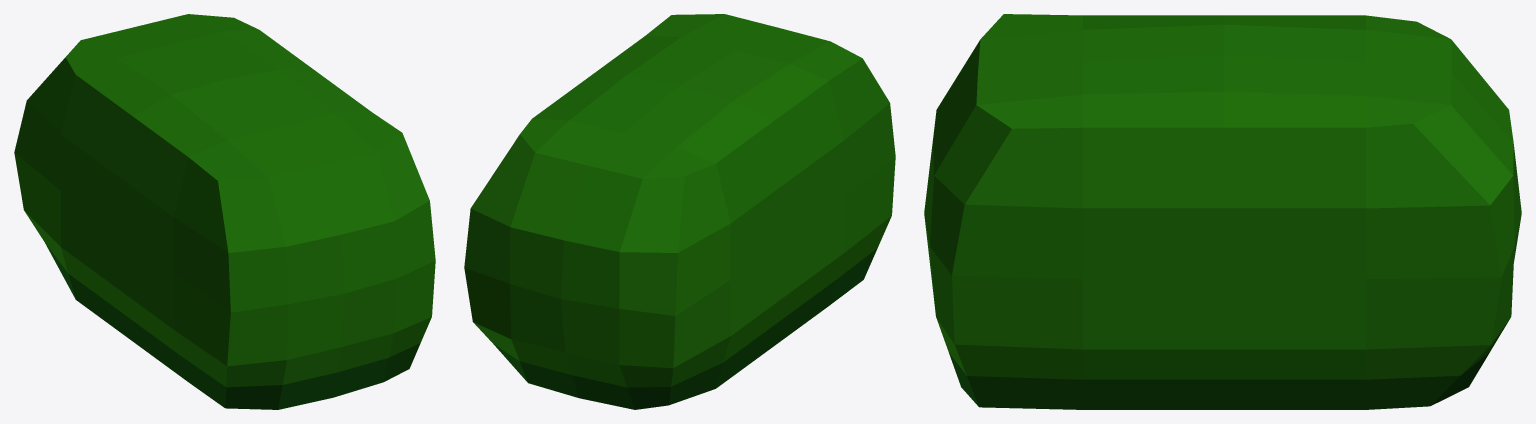
File: bush.fbx
3 renders of one model, left to right at view 1: azimuth 30°, elevation 25°; view 2: azimuth 150°, elevation 25°; view 3: azimuth 270°, elevation 25°, orthographic. The views are drawn at different scales.
Visible parts, largest first — view 1: Cube; view 2: Cube; view 3: Cube.
Boxes of the visible parts, x1,y1,x2,y2 form: Cube: [14, 14, 435, 409]; Cube: [464, 14, 895, 409]; Cube: [924, 14, 1521, 409].
Bounding box in the file's own units: 200 × 212 × 384.
